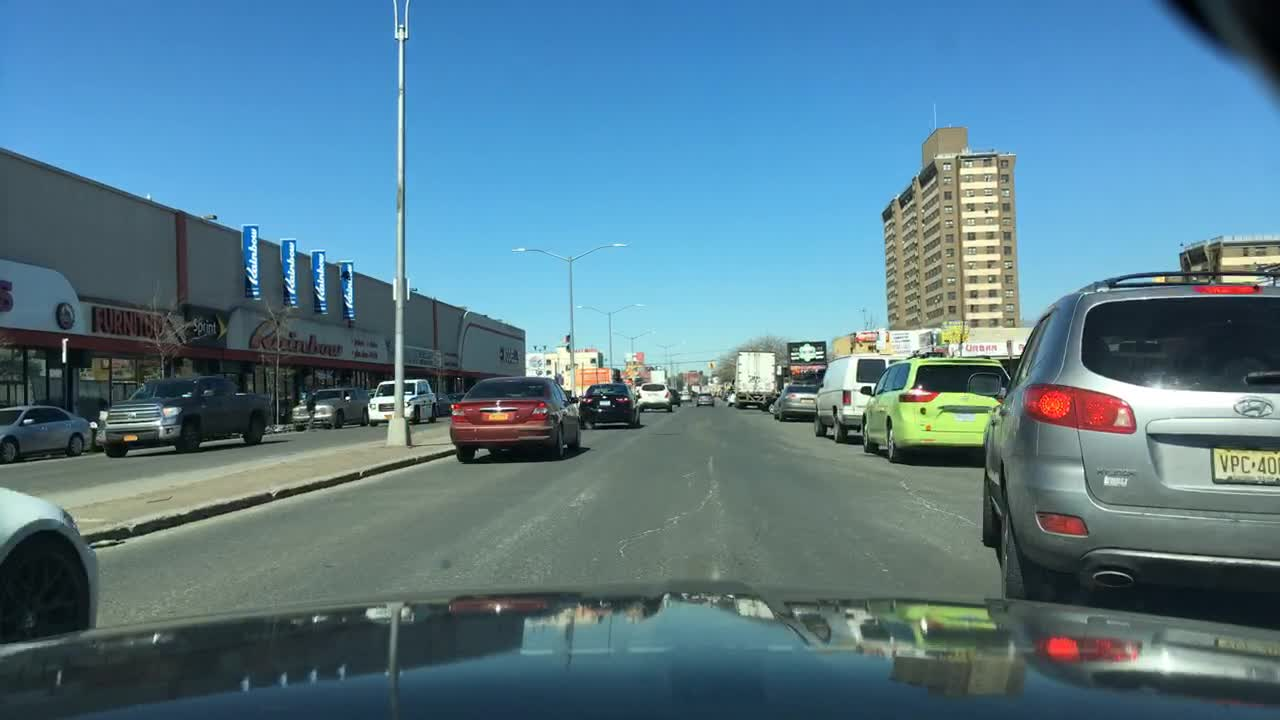car: (980, 268, 1277, 612), (859, 355, 1022, 465), (1, 485, 100, 646), (95, 373, 272, 458), (448, 373, 583, 464), (906, 353, 1015, 443), (814, 354, 910, 443), (1, 402, 93, 464), (366, 376, 439, 425), (289, 387, 371, 427), (576, 381, 642, 429), (768, 381, 822, 423), (633, 380, 677, 411), (436, 390, 453, 416), (696, 391, 716, 405), (676, 389, 695, 401), (727, 387, 741, 402), (720, 384, 730, 401)
person: (301, 384, 317, 435)
truck: (733, 348, 779, 411)
